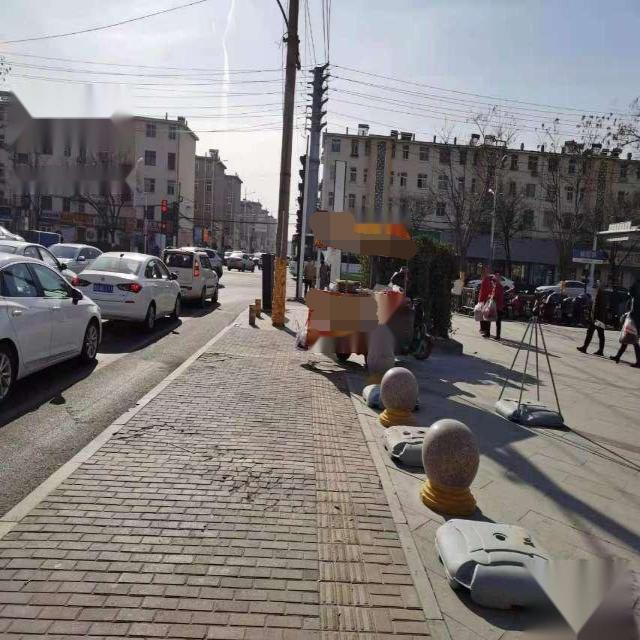car: (306, 278, 432, 364)
fixed_stall: (308, 249, 413, 297)
